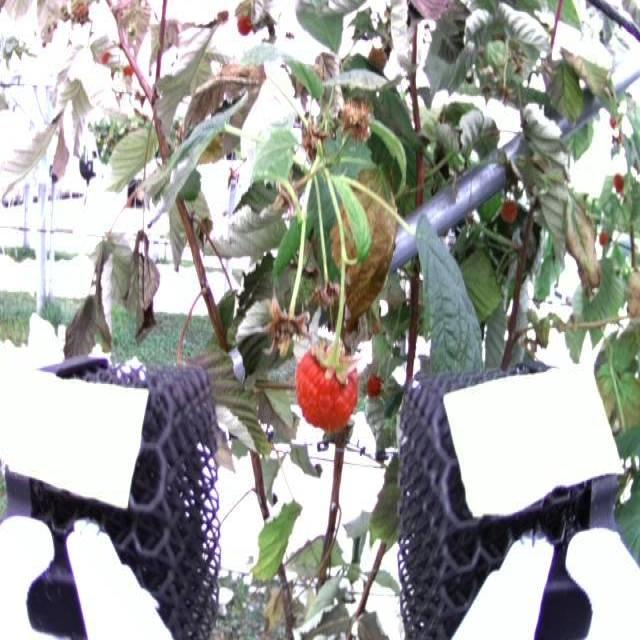Riped berries: (294, 332, 362, 430)
